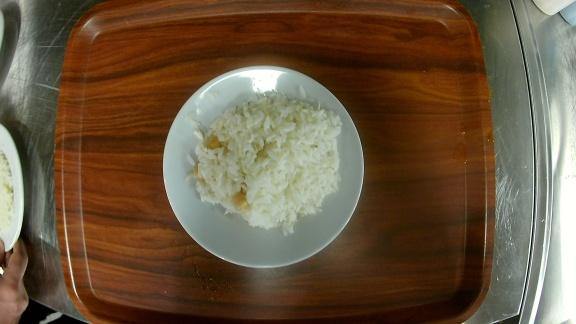nohutlupilav: (164, 66, 364, 269)
